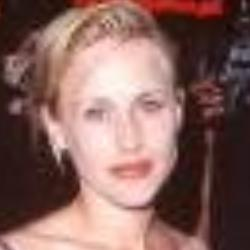face: (16, 1, 202, 230)
